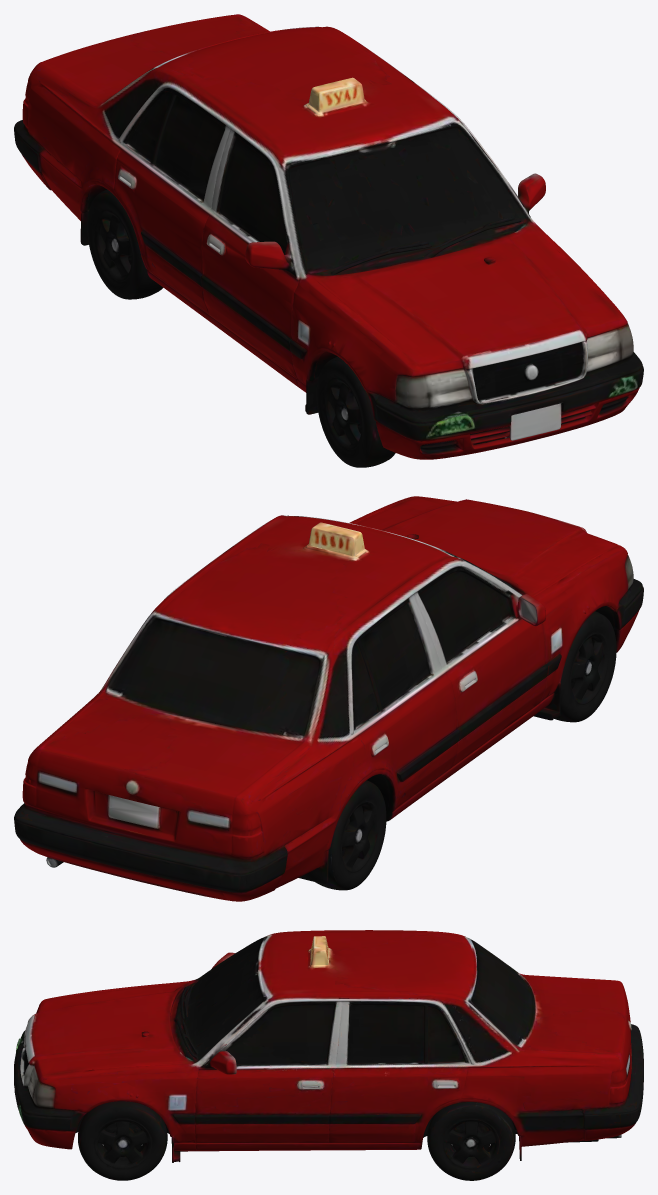
Rendered from A_red_Hong_Kong_taxi_boxy_90s_sedan_shape_with_a_rooftop_taxi_sign.glb.
The picture shows the model from 3 angles, top to bottom: view 1: azimuth 30°, elevation 25°; view 2: azimuth 150°, elevation 25°; view 3: azimuth 270°, elevation 25°; orthographic projection. The views are drawn at different scales.
Visible parts, largest first — view 1: material; view 2: material; view 3: material.
Part boxes in pixels (left/top/right/bottom): material: left=14, top=14, right=643, bottom=467; material: left=14, top=496, right=643, bottom=901; material: left=14, top=930, right=643, bottom=1180.
Size of the model in its own units: 0.4787 by 0.3953 by 1.16.
Materials: 1 (1 with a texture image).
